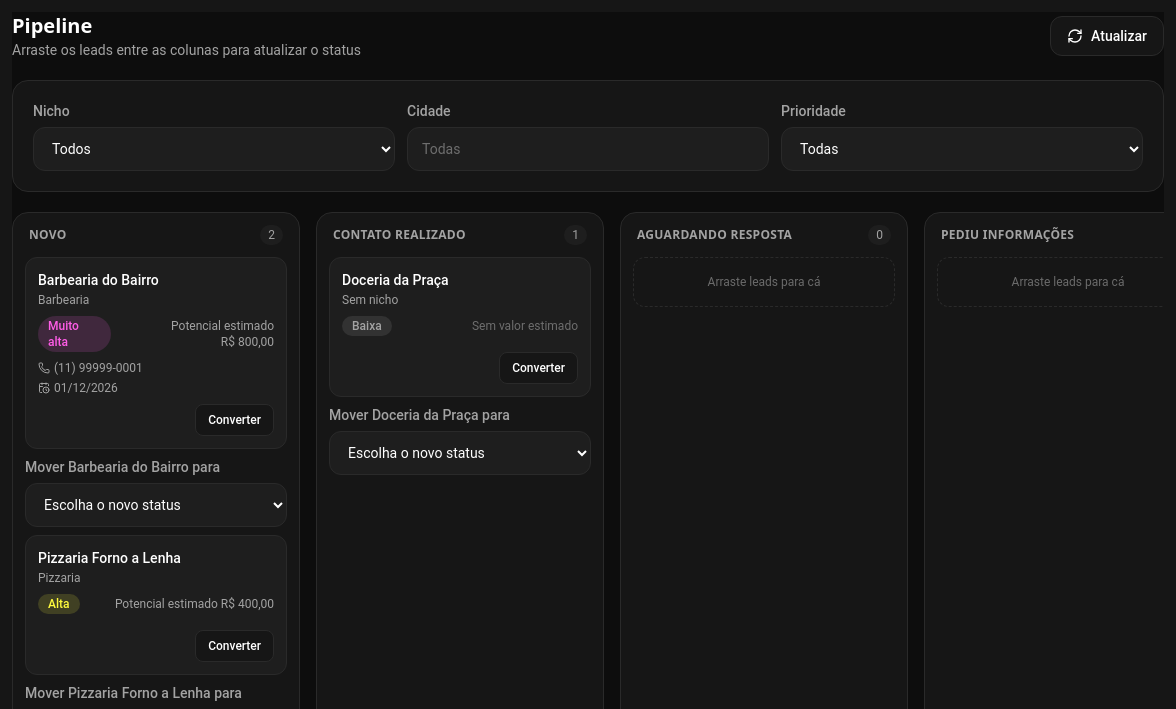
it: PipelinePage — conversão › preserva o snapshot de leads e a fila quando a listagem falha e permite retry
Expected: the element "Barbearia do Bairro" is shown, [25,257,287,449]
Expected: the link "Barbearia do Bairro" is shown, [38,272,159,288]
Click the button "Atualizar" at x=1107, y=36, box [1050,16,1164,56]
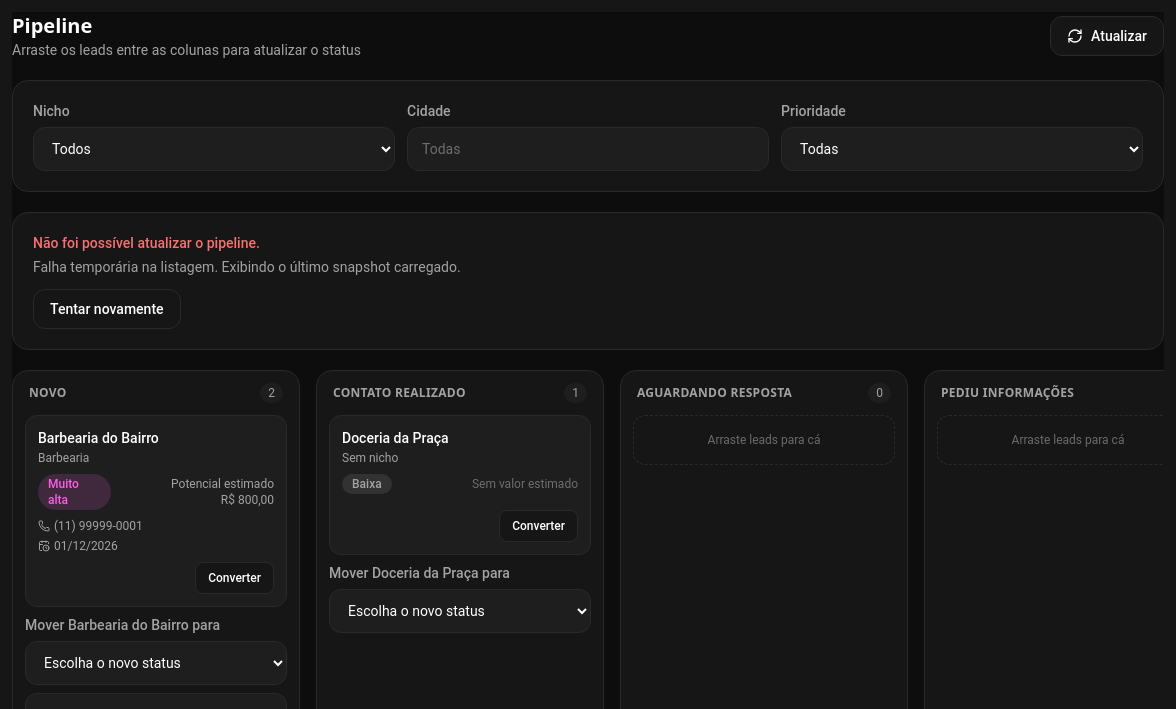
Expected: the element "Barbearia do Bairro" is shown, [25,415,287,607]
Now the message shows "Falha temporária na listagem.", box [33,259,218,275]
Now the message shows "último snapshot", box [218,259,461,275]
Click the button "Tentar novamente" at x=107, y=309, box [33,289,181,329]
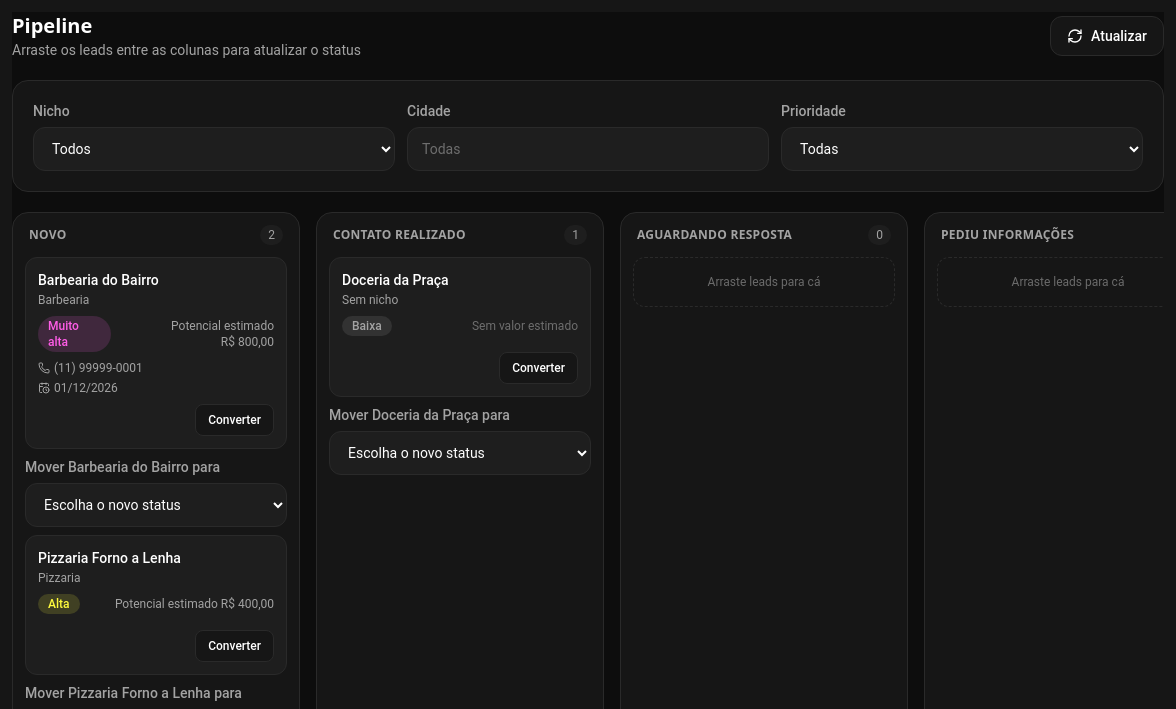
Expected: the element "Barbearia do Bairro" is shown, [25,257,287,449]
Now the message "Não foi possível atualizar o pipeline. Falha temporária na listagem. Exibindo o" is gone
